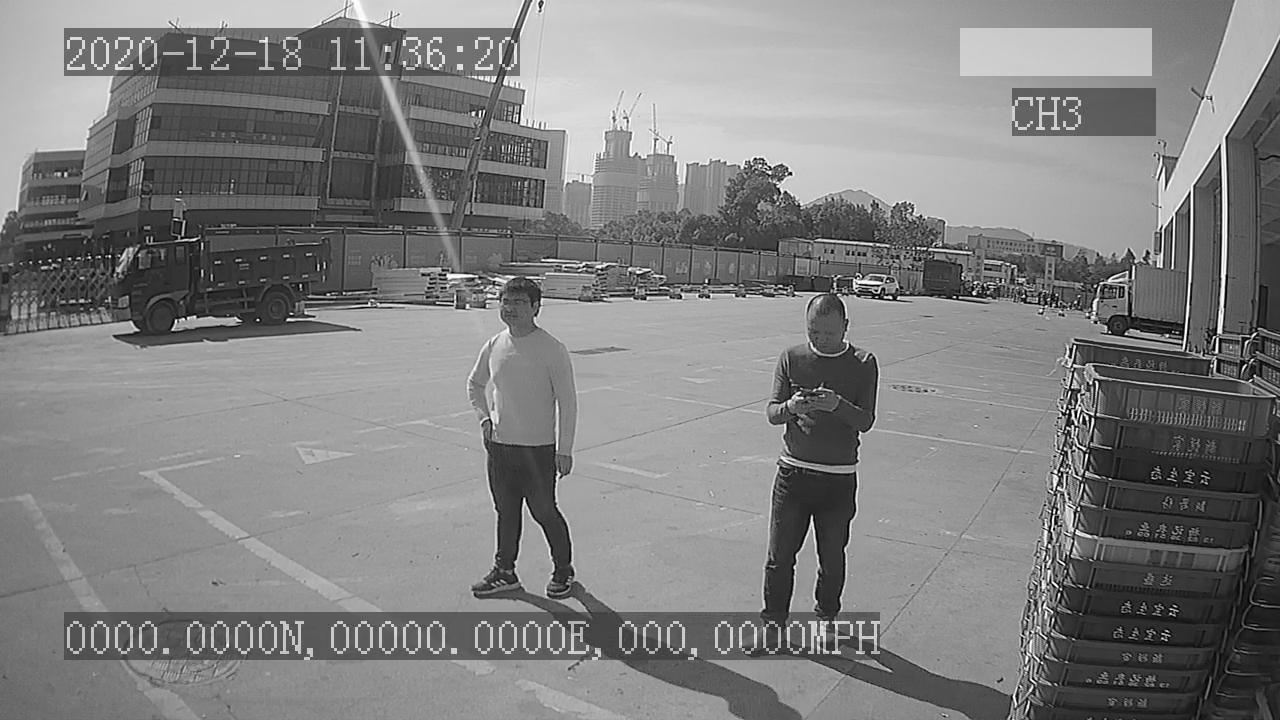person: (462, 275, 586, 601)
